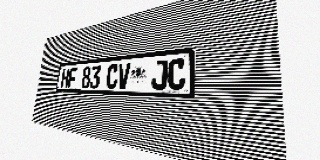3: (89, 65, 101, 88)
8: (81, 66, 92, 88)
C: (167, 58, 186, 90), (106, 64, 119, 89)
F: (67, 67, 77, 88)
H: (60, 68, 70, 88)
J: (151, 60, 168, 90)
V: (117, 63, 131, 89)
